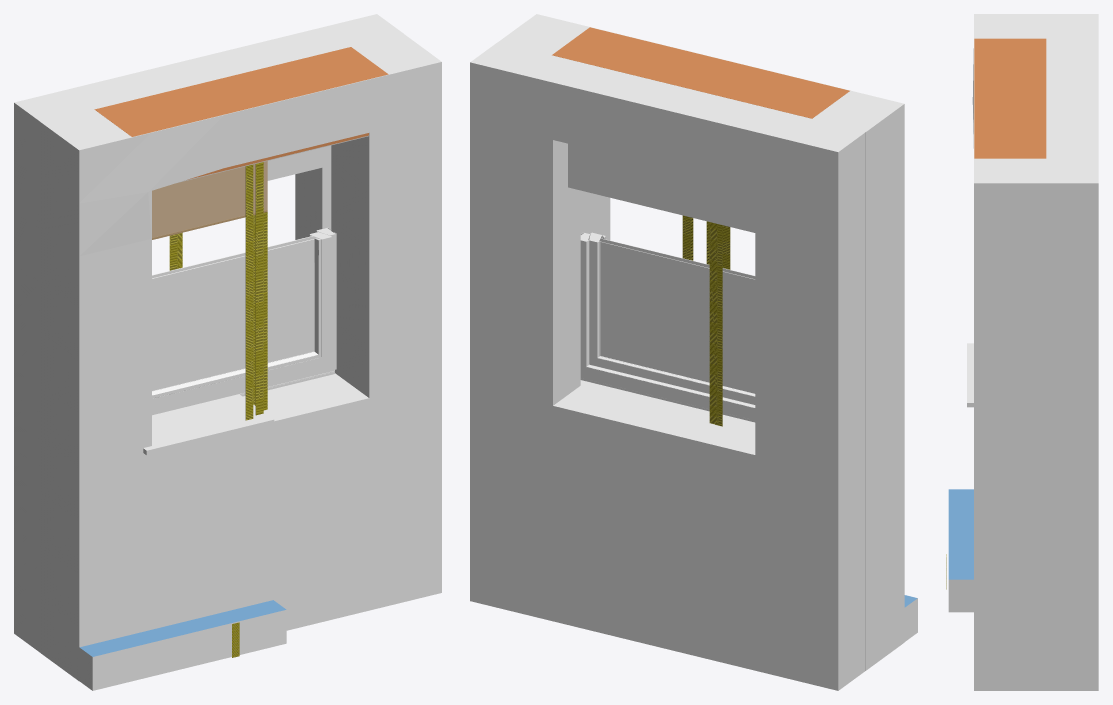
Rendered from wallH_old.glb.
3 renders of one model, left to right at view 1: azimuth 30°, elevation 25°; view 2: azimuth 150°, elevation 25°; view 3: azimuth 270°, elevation 25°, orthographic. The views are drawn at different scales.
Parts seen in each view (by area): view 1: mauer_neu_boden_ohne, mauer_neu_bruestung_mit, mauer_neu_bruestung_ohne, dg_neu_bruestung, fenster-Glas, mauer_neu_boden_mit, rks-red, fenster-PVC, fussboden_alt-estrich, altkasten-holz2, al_alt_boden, dg_neu_boden (+10 smaller); view 2: dg_neu_bruestung, dg_neu_boden, mauer_neu_boden_ohne, fenster-Glas, al_alt_boden, rks-red, al_alt_bruestung, fenster-PVC, il_alt_boden_ohne, bandmass_alt_bruestung_mit, mauer_neu_bruestung_ohne, bandmass_alt_bodentief_al (+4 smaller); view 3: dg_neu_boden, il_alt_bruestung_mit, mauer_neu_boden_mit, rks-red, al_alt_boden, dg_neu_bruestung, fussboden_alt-fliesen, al_alt_bruestung, il_alt_boden_mit, il_alt_boden_ohne, mauer_neu_boden_ohne, mauer_neu_bruestung_ohne (+4 smaller).
Part boxes in pixels (left/top/right/bottom): mauer_neu_boden_ohne: left=41, top=51, right=441, bottom=680; mauer_neu_bruestung_mit: left=55, top=43, right=441, bottom=645; mauer_neu_bruestung_ohne: left=46, top=36, right=441, bottom=647; dg_neu_bruestung: left=14, top=14, right=390, bottom=652; fenster-Glas: left=152, top=236, right=317, bottom=390; mauer_neu_boden_mit: left=71, top=41, right=441, bottom=639; rks-red: left=94, top=47, right=388, bottom=179; fenster-PVC: left=152, top=227, right=336, bottom=414; fussboden_alt-estrich: left=79, top=610, right=286, bottom=690; altkasten-holz2: left=152, top=161, right=267, bottom=237; al_alt_boden: left=30, top=25, right=400, bottom=176; dg_neu_boden: left=15, top=14, right=403, bottom=228; dg_neu_bruestung: left=470, top=46, right=865, bottom=690; dg_neu_boden: left=470, top=43, right=863, bottom=690; mauer_neu_boden_ohne: left=530, top=14, right=904, bottom=670; fenster-Glas: left=600, top=238, right=755, bottom=393; al_alt_boden: left=485, top=42, right=864, bottom=232; rks-red: left=552, top=27, right=849, bottom=118; al_alt_bruestung: left=498, top=44, right=864, bottom=433; fenster-PVC: left=580, top=232, right=755, bottom=420; il_alt_boden_ohne: left=499, top=25, right=893, bottom=131; bandmass_alt_bruestung_mit: left=709, top=222, right=717, bottom=424; mauer_neu_bruestung_ohne: left=500, top=14, right=861, bottom=428; bandmass_alt_bodentief_al: left=715, top=224, right=722, bottom=426; dg_neu_boden: left=1046, top=14, right=1098, bottom=690; il_alt_bruestung_mit: left=992, top=15, right=1046, bottom=690; mauer_neu_boden_mit: left=974, top=14, right=1045, bottom=690; rks-red: left=974, top=38, right=1046, bottom=158; al_alt_boden: left=1046, top=14, right=1070, bottom=183; dg_neu_bruestung: left=1046, top=14, right=1098, bottom=182; fussboden_alt-fliesen: left=948, top=491, right=973, bottom=579; al_alt_bruestung: left=1046, top=14, right=1070, bottom=181; il_alt_boden_mit: left=992, top=14, right=1046, bottom=182; il_alt_boden_ohne: left=993, top=15, right=1046, bottom=183; mauer_neu_boden_ohne: left=972, top=14, right=1046, bottom=182; mauer_neu_bruestung_ohne: left=974, top=14, right=1046, bottom=182.
Bounding box in the file's own units: 200 × 280 × 76.1.
Materials: 38 (1 with a texture image).
